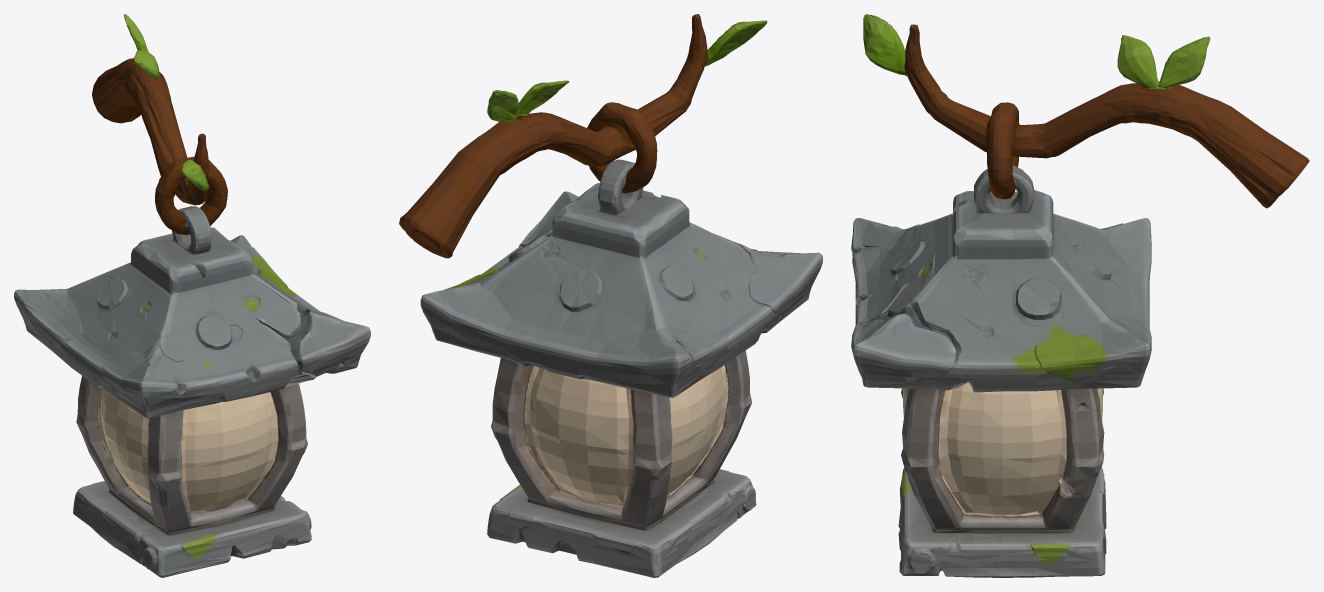
File: stylized_lantern.glb
3 renders of one model, left to right at view 1: azimuth 30°, elevation 25°; view 2: azimuth 150°, elevation 25°; view 3: azimuth 270°, elevation 25°, orthographic. The views are drawn at different scales.
Visible parts, largest first — view 1: tripo_node_d148e929-fc5f-4207-9989-ddfc595f5f8b; view 2: tripo_node_d148e929-fc5f-4207-9989-ddfc595f5f8b; view 3: tripo_node_d148e929-fc5f-4207-9989-ddfc595f5f8b.
Part boxes in pixels (x1,y1,x2,y2): tripo_node_d148e929-fc5f-4207-9989-ddfc595f5f8b: (14,14,370,577); tripo_node_d148e929-fc5f-4207-9989-ddfc595f5f8b: (399,14,822,577); tripo_node_d148e929-fc5f-4207-9989-ddfc595f5f8b: (851,14,1309,577).
Size of the model in its own units: 0.5459 by 0.9979 by 0.812.
Materials: 1 (1 with a texture image).
